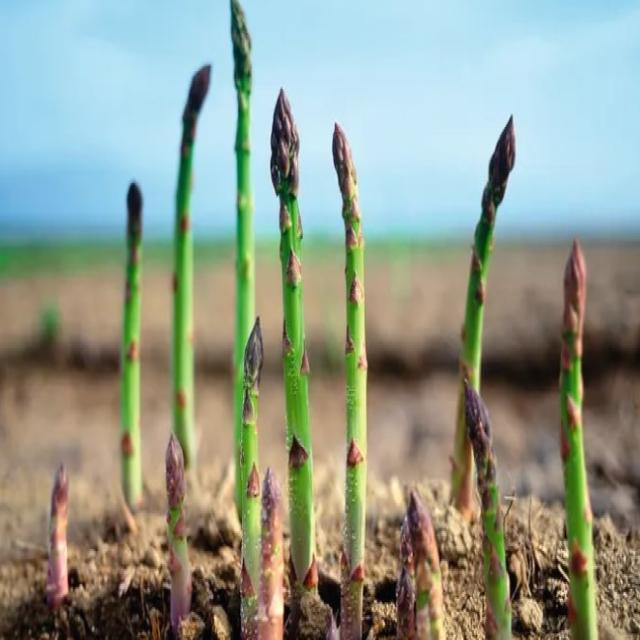aspargus: (269, 89, 319, 605), (331, 126, 368, 640), (557, 240, 599, 640), (117, 183, 142, 499), (163, 432, 190, 640), (48, 466, 72, 610)
